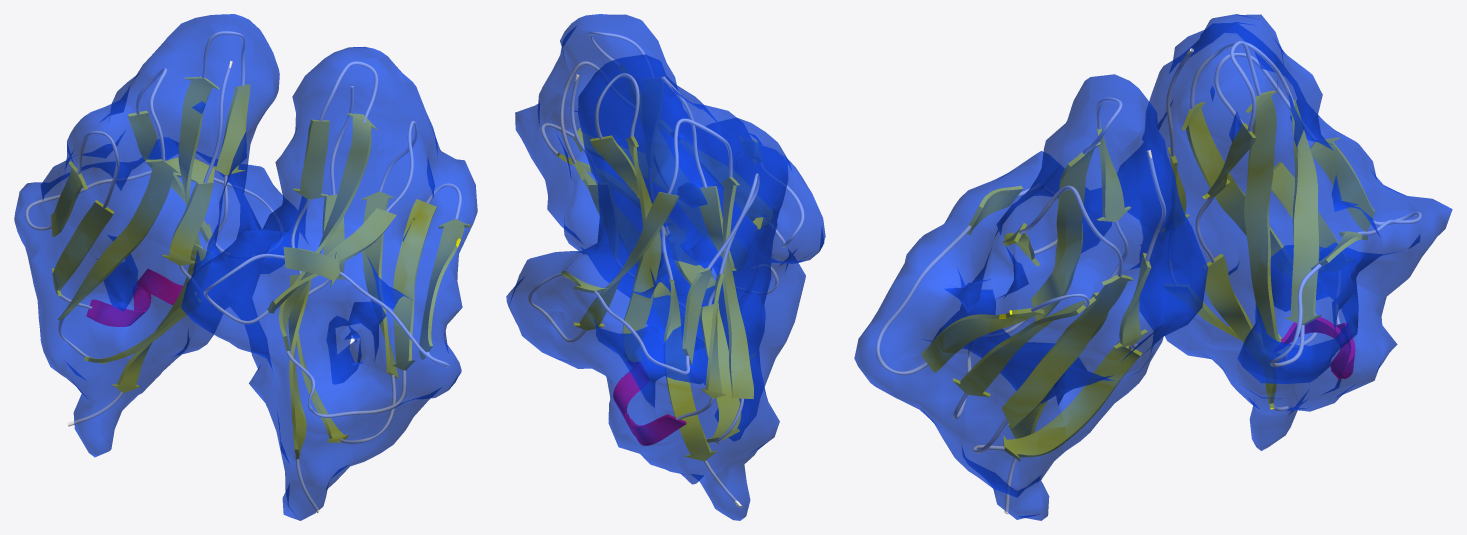
Rendered from IgBeta (1).fbx.
3 views of the same model, side by side, from view 1: azimuth 30°, elevation 25°; view 2: azimuth 150°, elevation 25°; view 3: azimuth 270°, elevation 25° (orthographic). The views are drawn at different scales.
Visible parts, largest first — view 1: CoarseMS_3kg5, 3kg5_B_Strand2, 3kg5_A_Strand3, 3kg5_A_Strand7, 3kg5_B_Helix1, 3kg5_B_Strand7, 3kg5_B_Strand3, 3kg5_A_Strand4, 3kg5_B_Strand1, 3kg5_A_Strand8, 3kg5_A_Strand2, 3kg5_A_Strand6 (+16 smaller); view 2: CoarseMS_3kg5, 3kg5_B_Strand2, 3kg5_B_Strand7, 3kg5_B_Strand6, 3kg5_B_Strand8, 3kg5_B_Strand5, 3kg5_B_Helix1, 3kg5_B_Strand4, 3kg5_B_Strand13, 3kg5_B_Strand3, 3kg5_B_Strand1, 3kg5_B_Coil7 (+8 smaller); view 3: CoarseMS_3kg5, 3kg5_B_Strand7, 3kg5_A_Strand2, 3kg5_B_Strand8, 3kg5_A_Strand5, 3kg5_A_Strand7, 3kg5_B_Strand2, 3kg5_A_Strand4, 3kg5_A_Strand3, 3kg5_B_Strand4, 3kg5_B_Strand6, 3kg5_A_Strand13 (+11 smaller).
Part boxes in pixels (bbox=[...]): CoarseMS_3kg5: bbox=[14, 14, 477, 520]; 3kg5_B_Strand2: bbox=[58, 159, 180, 320]; 3kg5_A_Strand3: bbox=[393, 199, 436, 370]; 3kg5_A_Strand7: bbox=[279, 113, 377, 351]; 3kg5_B_Helix1: bbox=[86, 269, 182, 326]; 3kg5_B_Strand7: bbox=[178, 76, 219, 245]; 3kg5_B_Strand3: bbox=[52, 200, 114, 296]; 3kg5_A_Strand4: bbox=[419, 219, 470, 359]; 3kg5_B_Strand1: bbox=[162, 181, 213, 265]; 3kg5_A_Strand8: bbox=[267, 208, 396, 313]; 3kg5_A_Strand2: bbox=[361, 191, 398, 378]; 3kg5_A_Strand6: bbox=[288, 275, 311, 459]; CoarseMS_3kg5: bbox=[506, 14, 825, 520]; 3kg5_B_Strand2: bbox=[721, 177, 753, 398]; 3kg5_B_Strand7: bbox=[622, 136, 661, 333]; 3kg5_B_Strand6: bbox=[664, 279, 717, 460]; 3kg5_B_Strand8: bbox=[574, 192, 678, 330]; 3kg5_B_Strand5: bbox=[700, 303, 741, 442]; 3kg5_B_Helix1: bbox=[613, 371, 686, 445]; 3kg5_B_Strand4: bbox=[682, 268, 713, 364]; 3kg5_B_Strand13: bbox=[590, 135, 652, 204]; 3kg5_B_Strand3: bbox=[701, 274, 726, 398]; 3kg5_B_Strand1: bbox=[700, 186, 736, 270]; 3kg5_B_Coil7: bbox=[707, 173, 759, 274]; CoarseMS_3kg5: bbox=[854, 14, 1452, 520]; 3kg5_B_Strand7: bbox=[1244, 90, 1281, 342]; 3kg5_A_Strand2: bbox=[1002, 275, 1132, 429]; 3kg5_B_Strand8: bbox=[1284, 99, 1321, 324]; 3kg5_A_Strand5: bbox=[1003, 341, 1141, 461]; 3kg5_A_Strand7: bbox=[1031, 142, 1100, 320]; 3kg5_B_Strand2: bbox=[1181, 102, 1283, 256]; 3kg5_A_Strand4: bbox=[921, 308, 1044, 372]; 3kg5_A_Strand3: bbox=[953, 297, 1095, 396]; 3kg5_B_Strand4: bbox=[1310, 137, 1375, 231]; 3kg5_B_Strand6: bbox=[1205, 254, 1276, 409]; 3kg5_A_Strand13: bbox=[1096, 120, 1130, 221].
Size of the model in its own units: 42.04 by 52.05 by 55.38.
